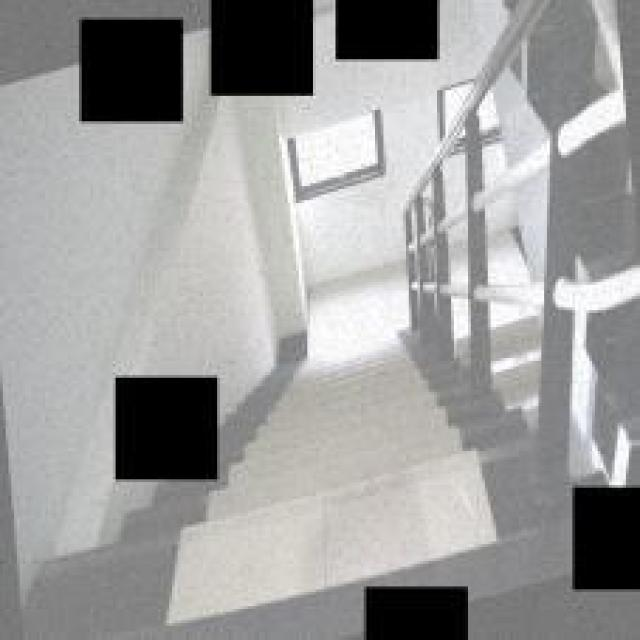downstair: (277, 387, 441, 534)
